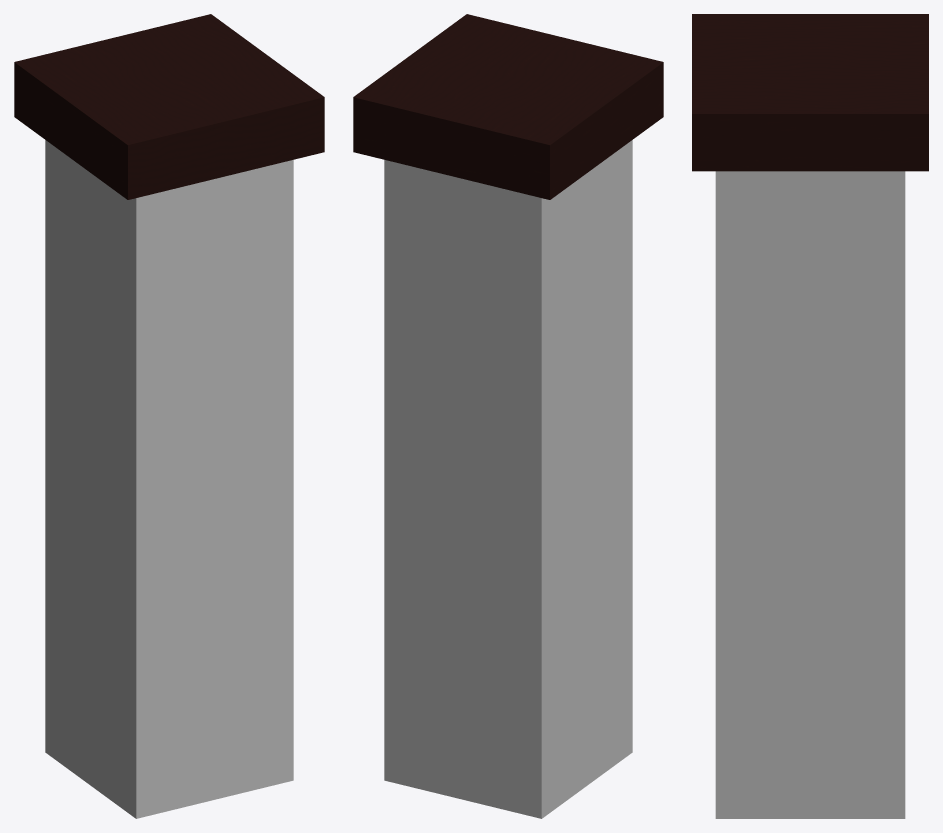
Rendered from Railing_Half_Pillar_White_02.FBX.
3 views of the same model, side by side, from view 1: azimuth 30°, elevation 25°; view 2: azimuth 150°, elevation 25°; view 3: azimuth 270°, elevation 25° (orthographic). The views are drawn at different scales.
Parts seen in each view (by area): view 1: HalfPillar_2p5m_Capped; view 2: HalfPillar_2p5m_Capped; view 3: HalfPillar_2p5m_Capped.
Part boxes in pixels (x1,y1,x2,y2): HalfPillar_2p5m_Capped: (14, 14, 324, 818); HalfPillar_2p5m_Capped: (353, 14, 663, 818); HalfPillar_2p5m_Capped: (692, 14, 928, 818).
Bounding box in the file's own units: 2953 × 9843 × 2953.
